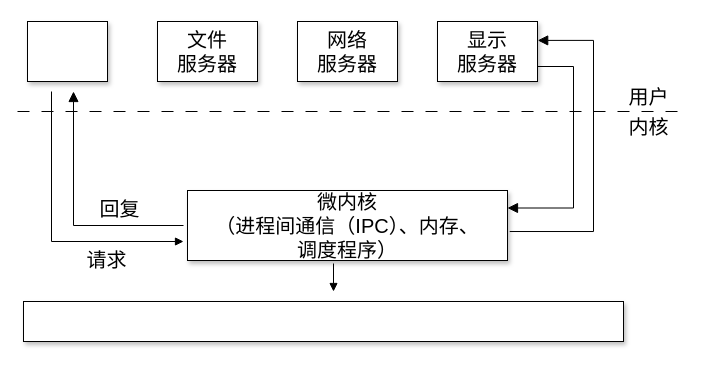
Image size: 702x366. Some labels were removed from this diagram. The centre of each missing label's shape, as x and y in pixels:
"应用" belongs at (68,52).
"硬件" belongs at (324,322).
